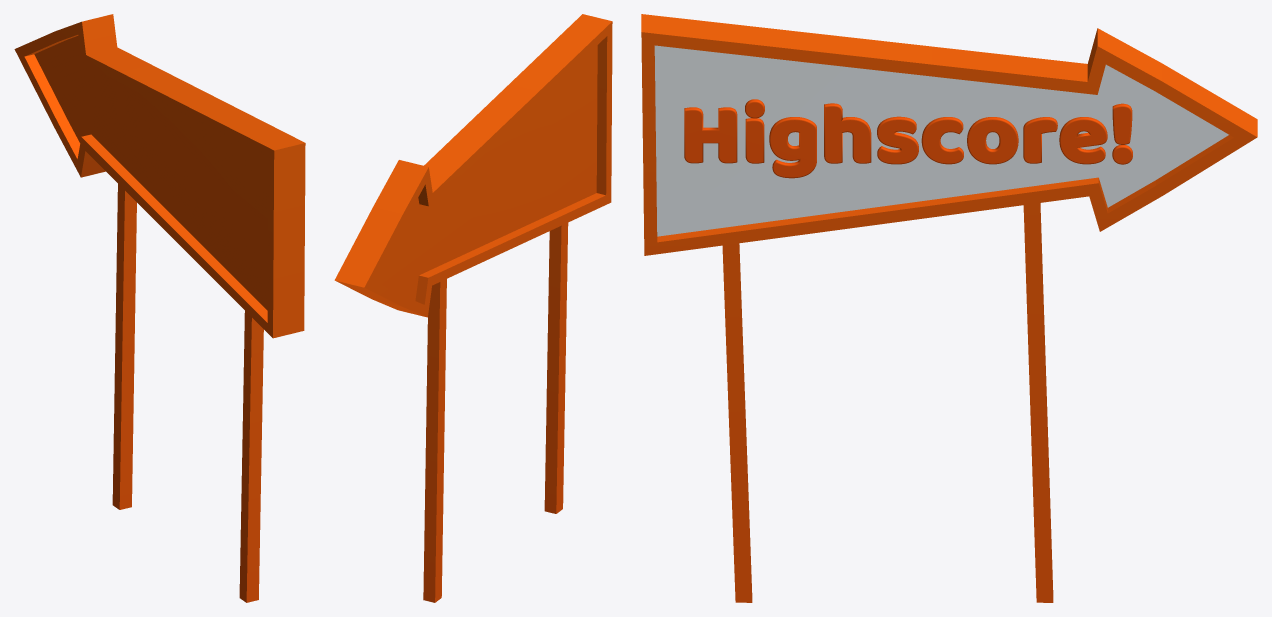
Rendered from sign.fbx.
3 views of the same model, side by side, from view 1: azimuth 30°, elevation 25°; view 2: azimuth 150°, elevation 25°; view 3: azimuth 270°, elevation 25° (orthographic). The views are drawn at different scales.
Visible parts, largest first — view 1: Sign; view 2: Sign; view 3: Sign, Text.
Boxes of the visible parts, x1,y1,x2,y2 form: Sign: [14, 14, 305, 602]; Sign: [334, 14, 612, 602]; Sign: [641, 14, 1257, 602]; Text: [684, 99, 1132, 178].
Size of the model in its own units: 16.29 by 241 by 234.
